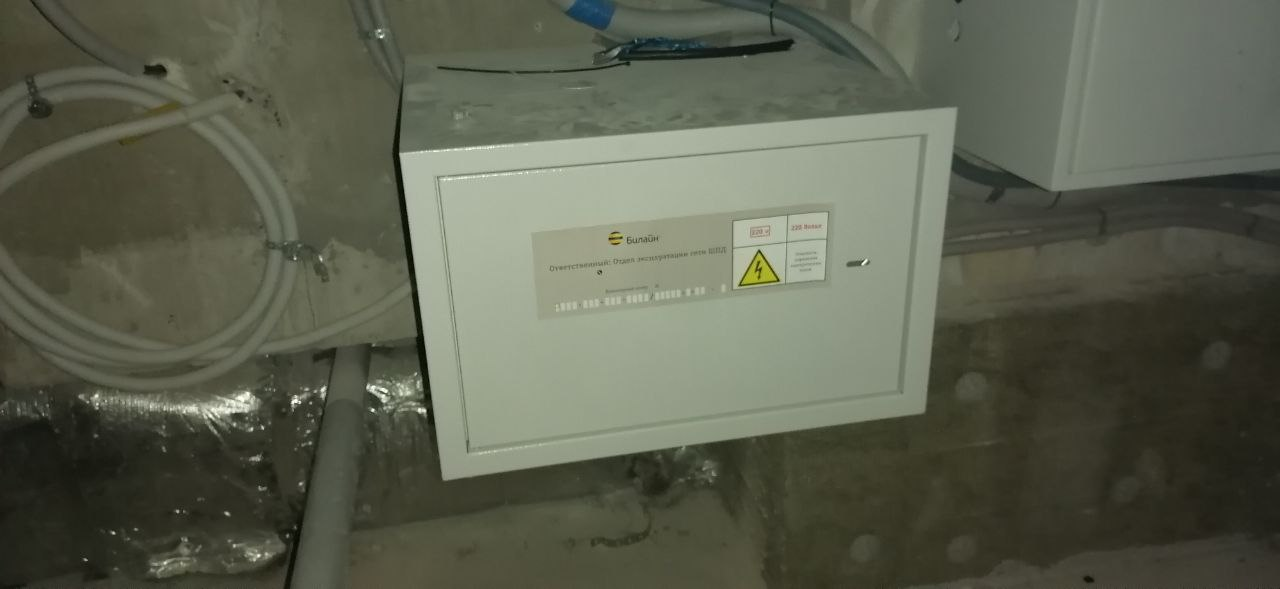shta-7m: (385, 31, 962, 491)
